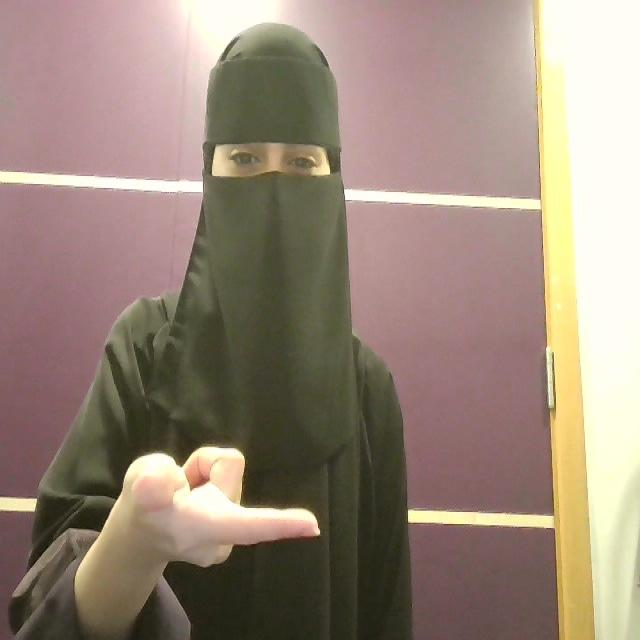dispensing: (73, 444, 320, 637)
